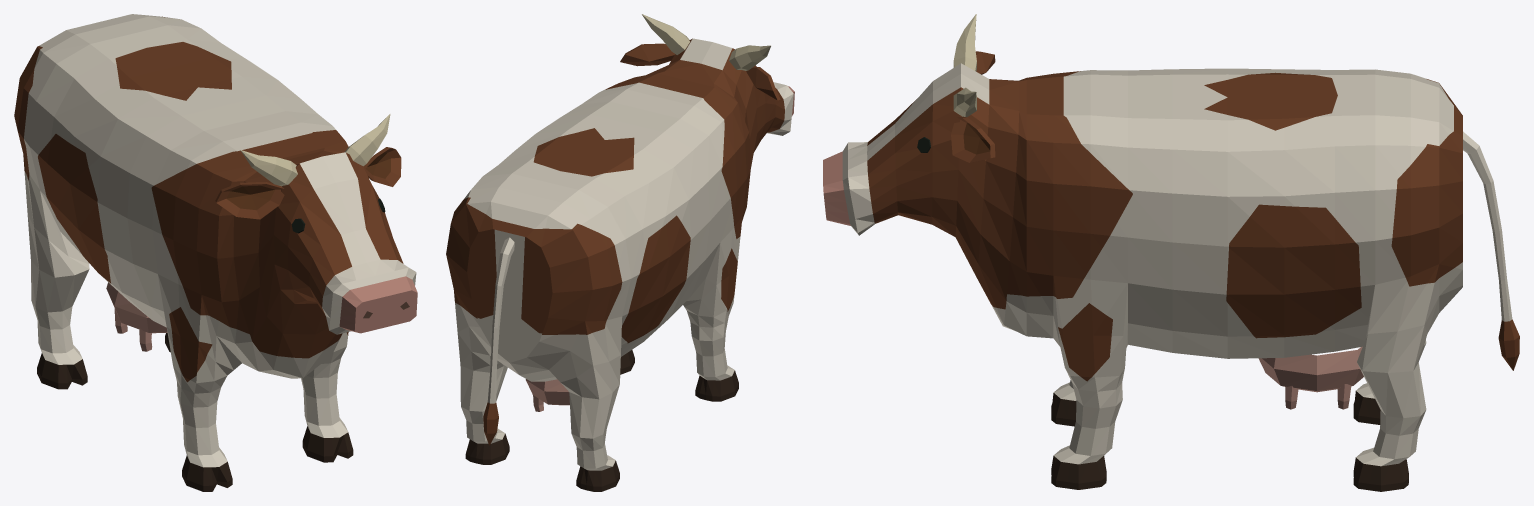
Rendered from cow-base.glb.
The picture shows the model from 3 angles, left to right: view 1: azimuth 30°, elevation 25°; view 2: azimuth 150°, elevation 25°; view 3: azimuth 270°, elevation 25°; orthographic projection. The views are drawn at different scales.
Visible parts, largest first — view 1: cow-base; view 2: cow-base; view 3: cow-base.
Part boxes in pixels (bbox=[...]): cow-base: bbox=[14, 14, 417, 491]; cow-base: bbox=[446, 14, 794, 491]; cow-base: bbox=[823, 14, 1519, 491].
Bounding box in the file's own units: 0.842 × 1.46 × 2.34.
